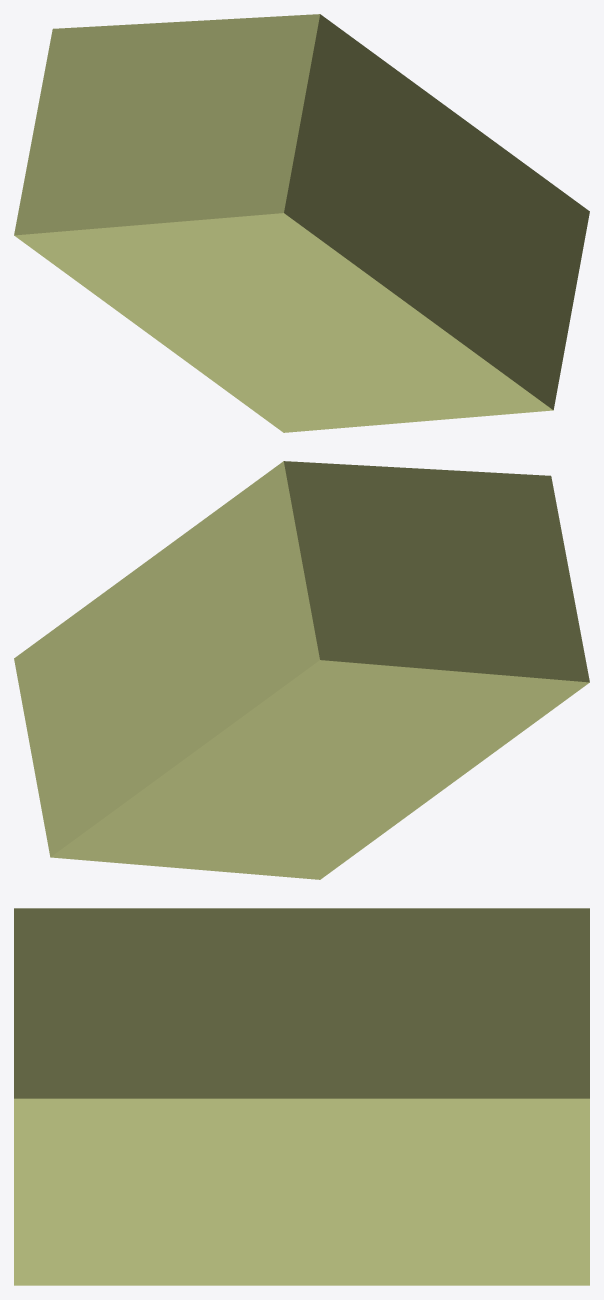
3 renders of one model, top to bottom at view 1: azimuth 30°, elevation 25°; view 2: azimuth 150°, elevation 25°; view 3: azimuth 270°, elevation 25°, orthographic. The views are drawn at different scales.
Visible parts, largest first — view 1: 0_0_1_3_2_2_3_3_0_1_3; view 2: 0_0_1_3_2_2_3_3_0_1_3; view 3: 0_0_1_3_2_2_3_3_0_1_3.
Boxes of the visible parts, <box> form: 0_0_1_3_2_2_3_3_0_1_3: <box>14,14,589,432</box>; 0_0_1_3_2_2_3_3_0_1_3: <box>14,461,589,879</box>; 0_0_1_3_2_2_3_3_0_1_3: <box>14,908,589,1285</box>.
Size of the model in its own units: 5.9 by 4.43 by 9.
